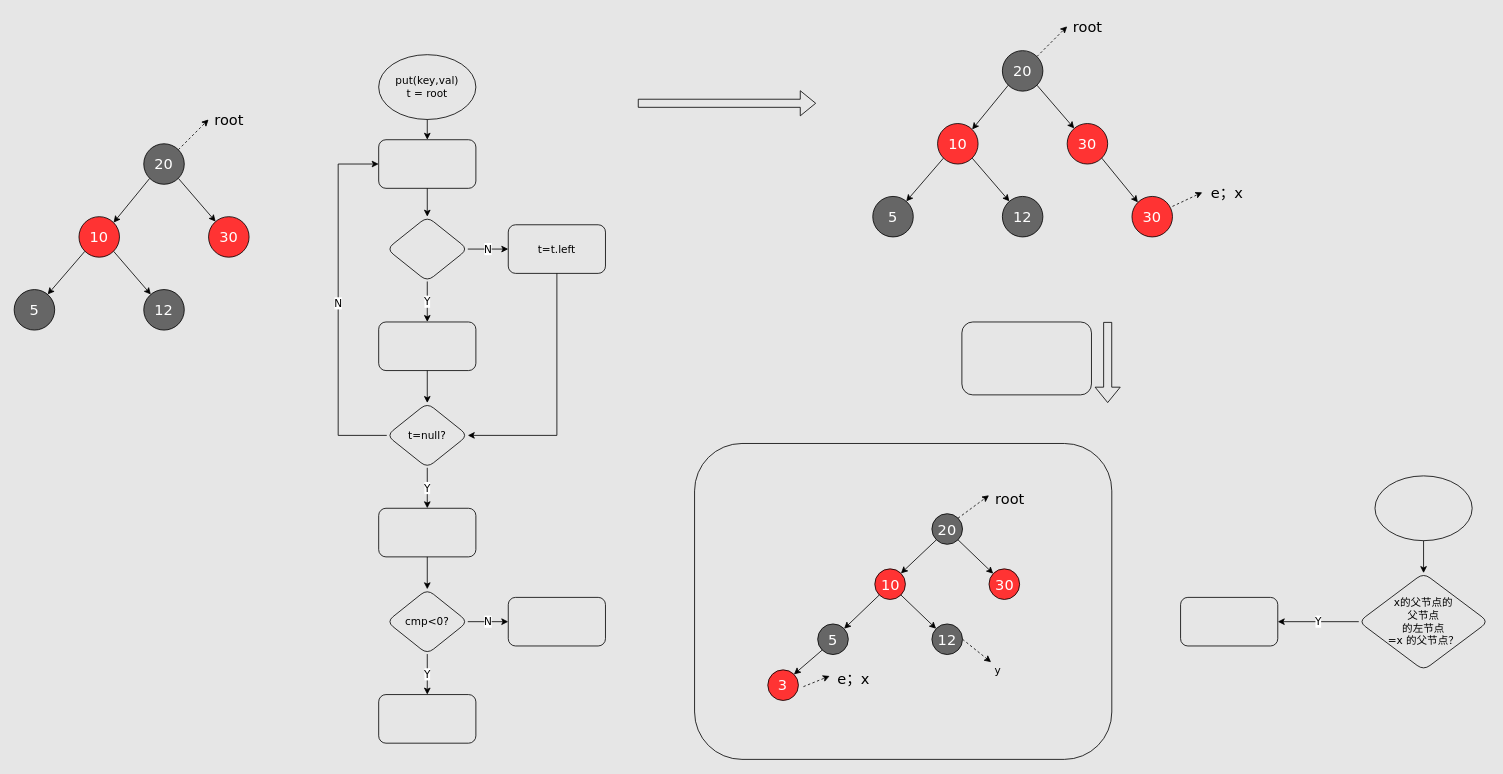
Some shapes in this 1503 by 774 pixel diagram are drawn without their labels. Here are the shapes that lost their labels. From the top down, the box of each, then its label:
(378, 139, 476, 188): parent = t
(386, 216, 468, 281): cmp= key>t.key?
(378, 321, 476, 371): t=t.right
(961, 321, 1091, 395): fixAfterInsertion 后续处理左/右旋、改变节点的颜色（默认都是黑色）
(1374, 475, 1472, 541): x=e
(378, 507, 476, 557): 根据put的k、v创建Entry对象, 变量名为e
(694, 443, 1112, 759): x的父节点的 父节点 的左节点 =x 的父节点的情况
(507, 597, 605, 646): 将新创建的Entry存在parent.right
(1180, 597, 1278, 646): 获取x的父节点的 父节点 的右节点
(378, 694, 476, 743): 将新创建的Entry存在parent.left
